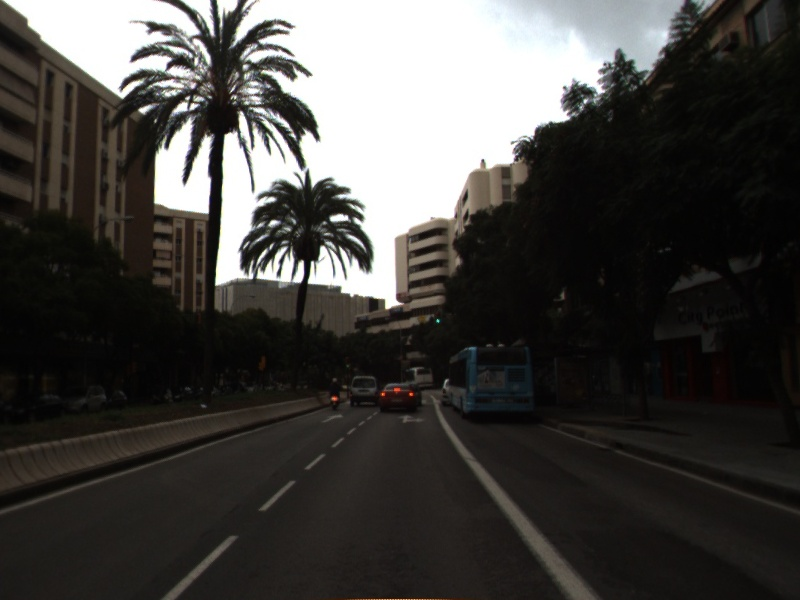STRAIGHT: (319, 412, 346, 425)
STRAIGHT_RIGHT: (395, 412, 427, 425)
